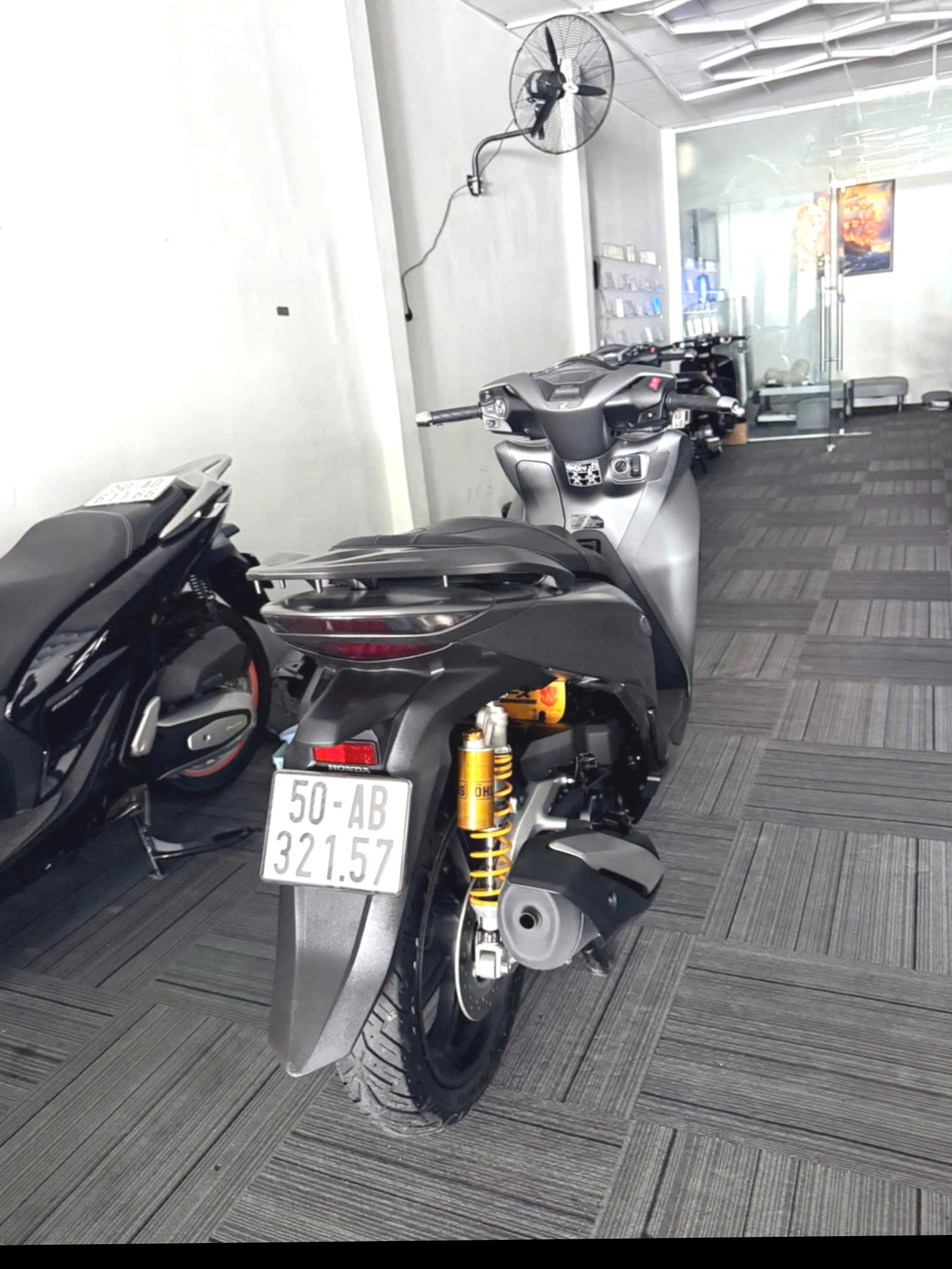Bien-so: (257, 761, 415, 903)
